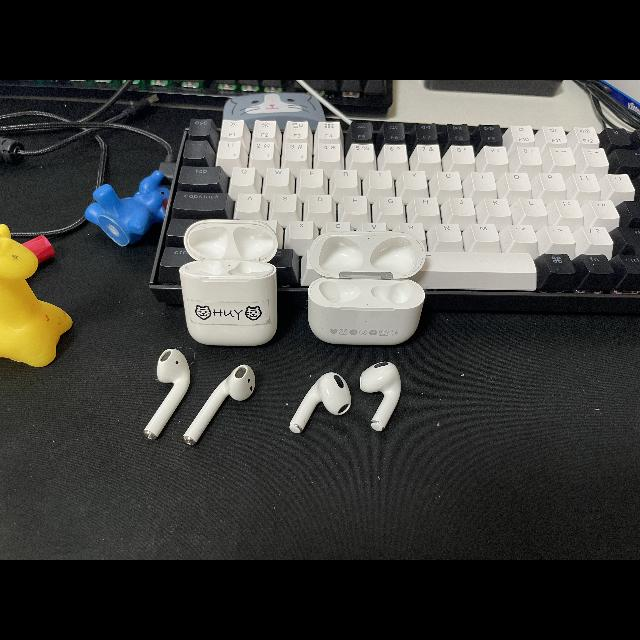airpod2: (142, 212, 280, 460)
airpod3: (283, 213, 435, 439)
